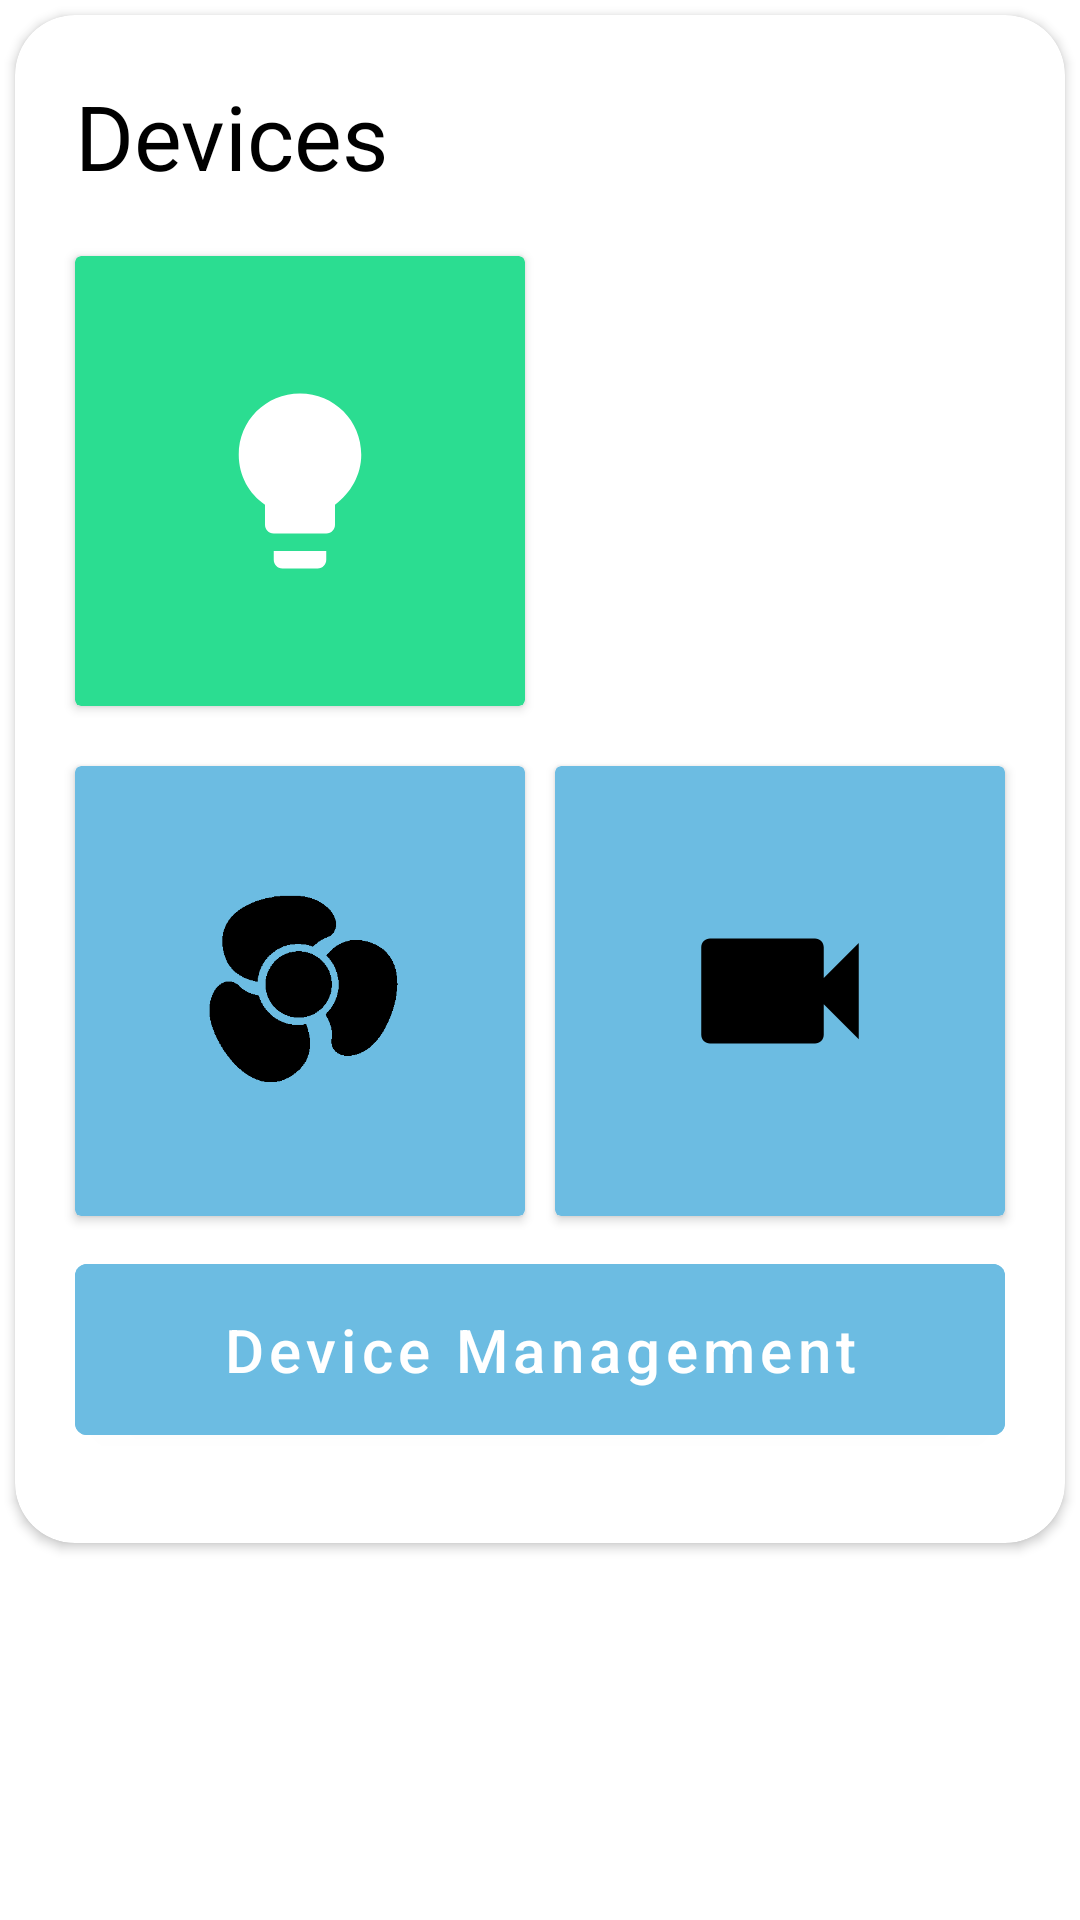

Named icons in this screenshot (1080 × 1920) and their centers, (x=x, y=y):
fan: (x=303, y=989)
lightbulb: (x=300, y=481)
videocam: (x=780, y=991)
